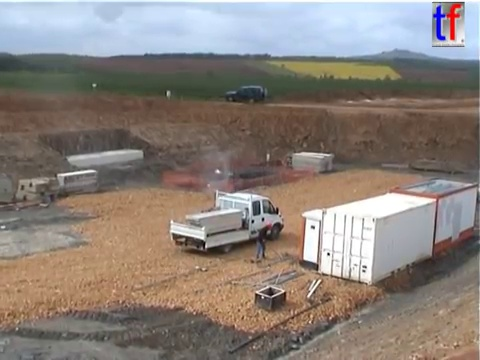truck: (168, 187, 287, 255)
worker: (253, 219, 275, 259)
